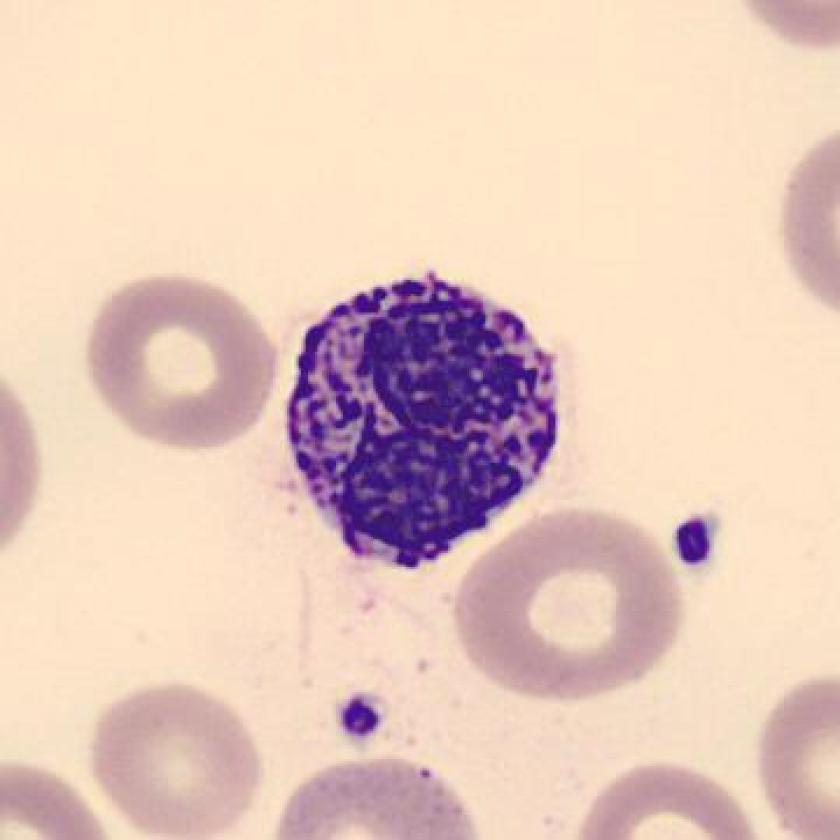basophil: (269, 253, 575, 577)
